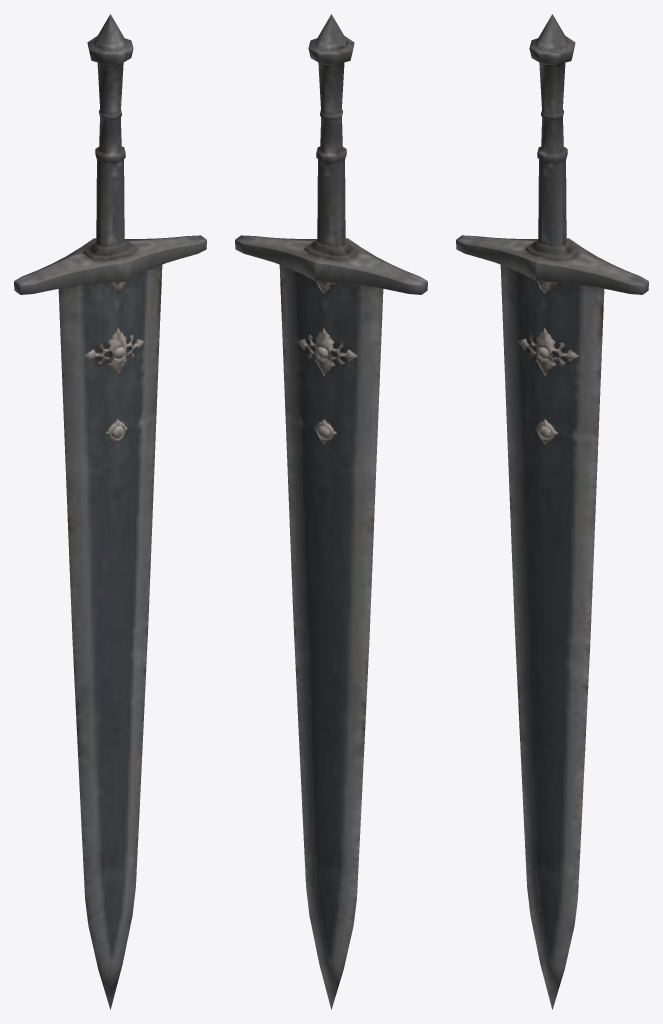
File: weapon-wp_a_0639.glb
The picture shows the model from 3 angles, left to right: view 1: azimuth 30°, elevation 25°; view 2: azimuth 150°, elevation 25°; view 3: azimuth 330°, elevation 25°; orthographic projection.
Visible parts, largest first — view 1: wp_a_0639_mesh; view 2: wp_a_0639_mesh; view 3: wp_a_0639_mesh.
Part boxes in pixels (box(x1,y1,x2,y2)): wp_a_0639_mesh: box(14, 14, 206, 1009); wp_a_0639_mesh: box(235, 14, 427, 1009); wp_a_0639_mesh: box(456, 14, 648, 1009).
Size of the model in its own units: 0.3205 by 1.63 by 0.0981.
1 material, 1 textured.
